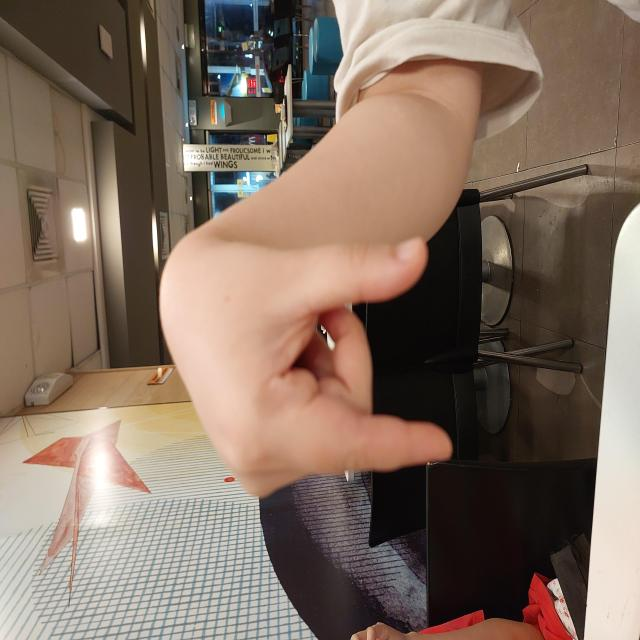Q: (139, 157, 408, 453)
